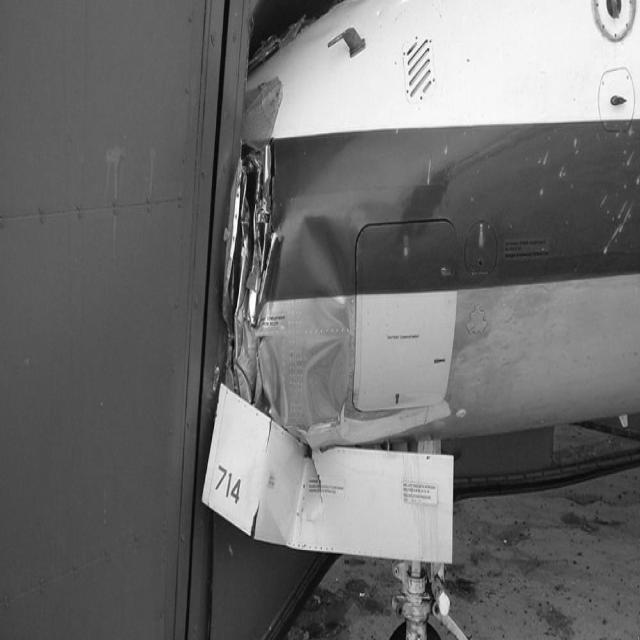dent: (297, 214, 350, 423)
